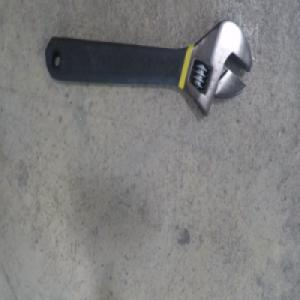AdjustableWrench: (45, 18, 251, 117)
